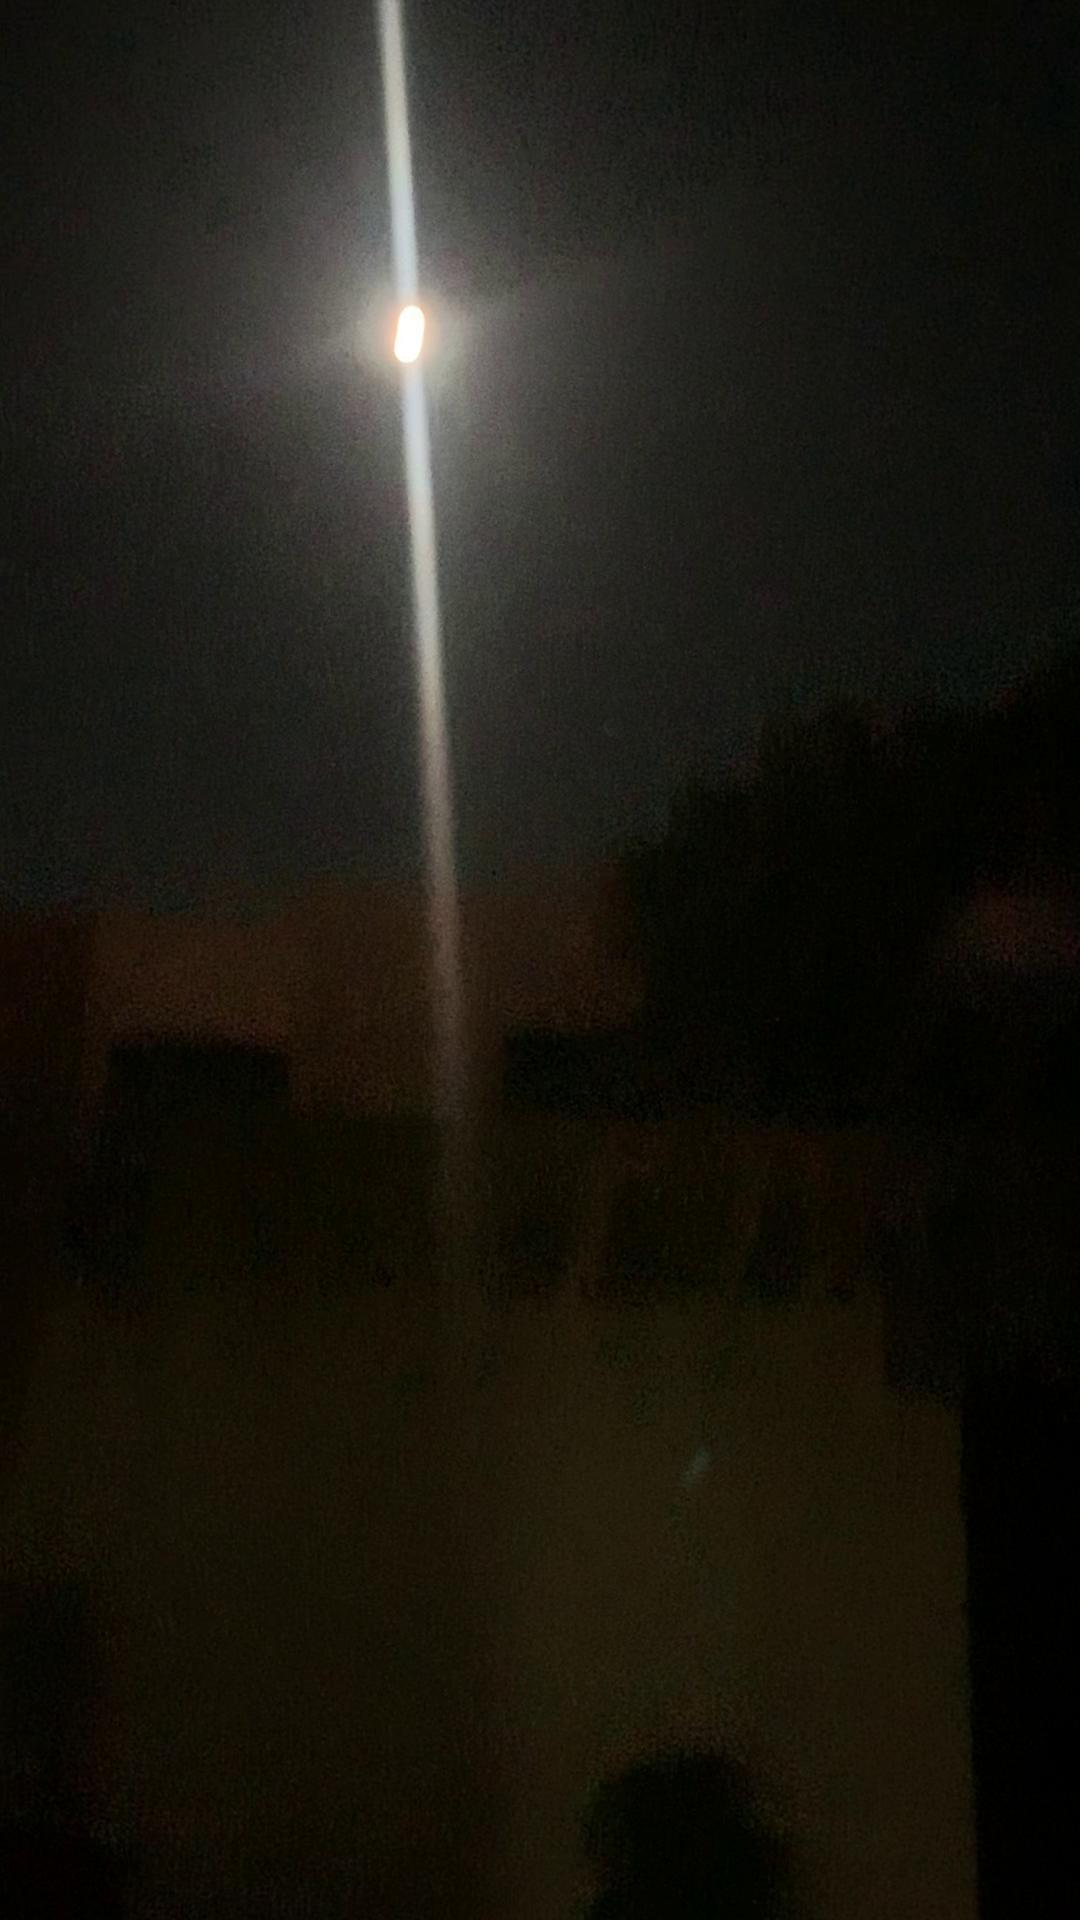moon: (357, 293, 463, 392)
